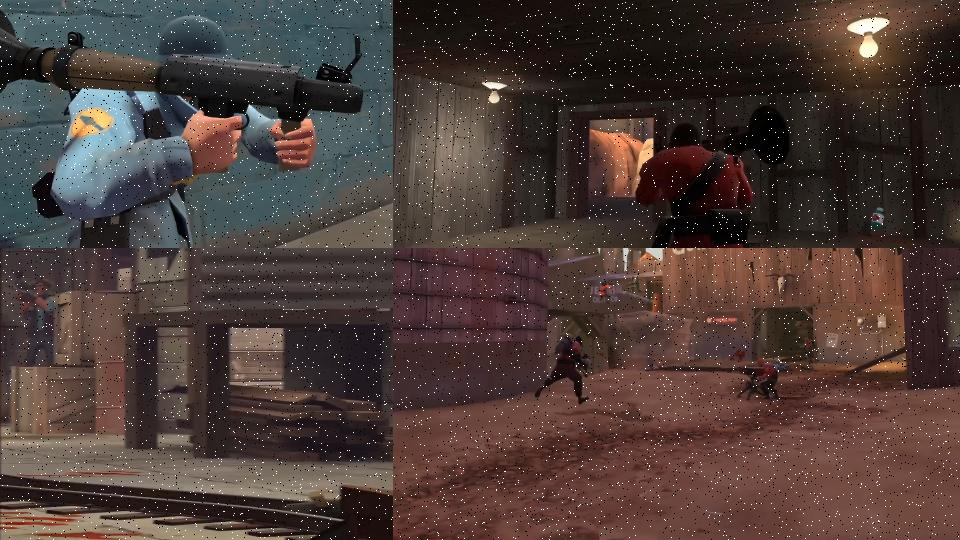Enemy: (0, 0, 367, 248), (629, 105, 800, 248), (532, 330, 602, 416), (3, 270, 59, 370), (756, 356, 780, 400), (794, 334, 815, 363), (598, 279, 614, 305), (627, 275, 644, 293)
